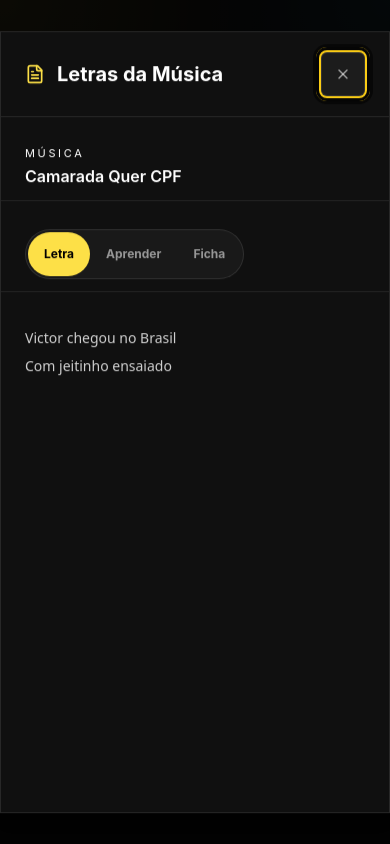
LyricsDialog — toggle à 3 états sur une chanson pilote › bascule vers Ficha et monte StudySheetPanel
The width and height of the screenshot is (390, 844).
Click the button "Ficha" at (209, 254), box [177,232,241,276]
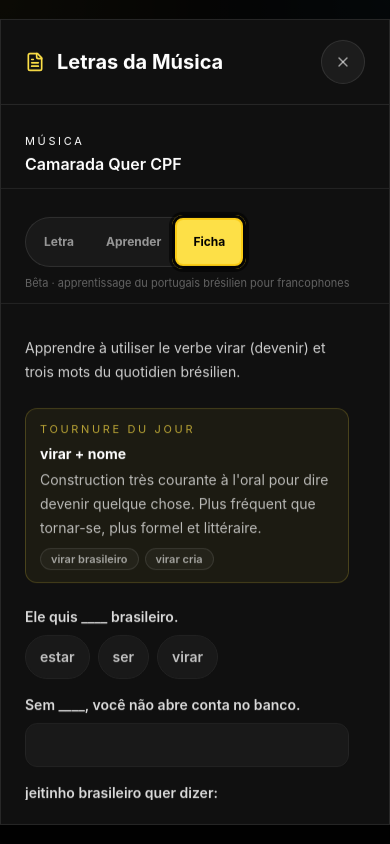
Expected: the text "Apprendre à utiliser le verbe virar" is shown, [25,339,326,380]
Expected: the text "Victor chegou no Brasil" is gone
